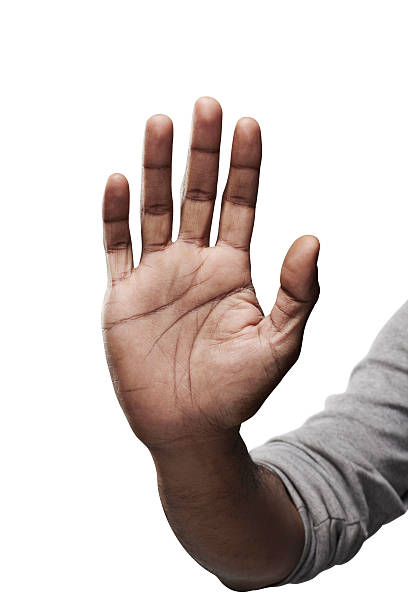non-diseased: (98, 104, 311, 430)
